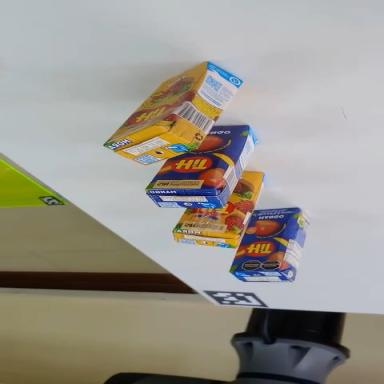HIT-MANGO: (138, 108, 278, 239), (229, 194, 314, 294)
HIT-MORA: (103, 40, 251, 192), (170, 149, 269, 265)
cara_F: (146, 99, 257, 222), (100, 50, 216, 160), (168, 162, 284, 262), (230, 194, 298, 285)
